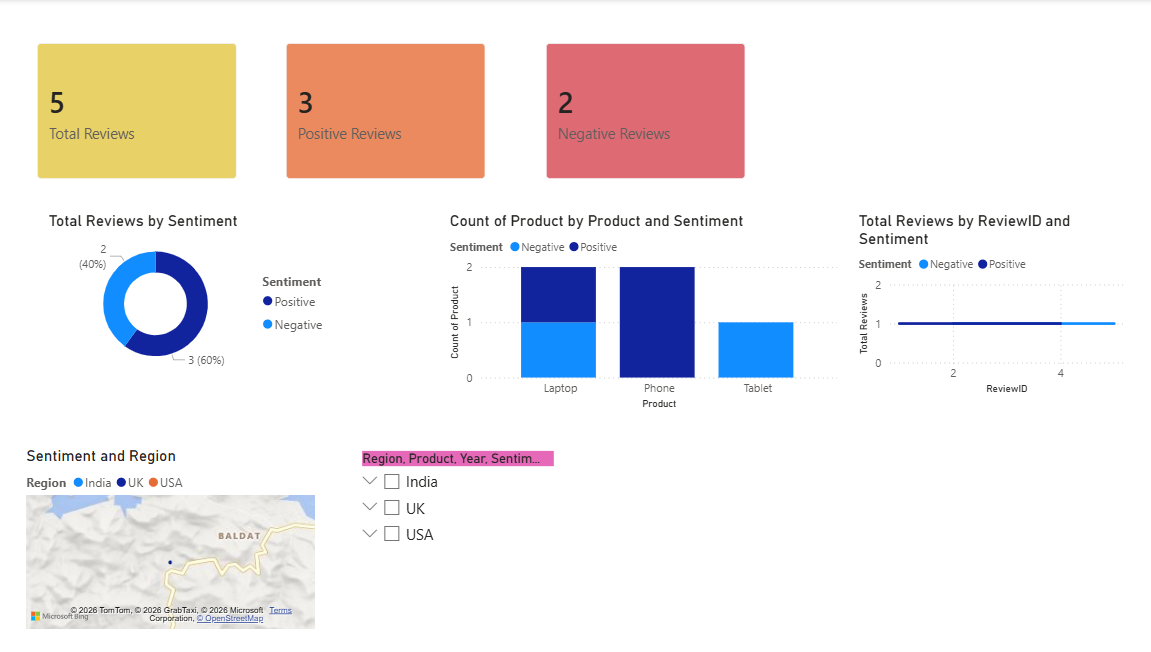

Layout of this report page (visuals, bound fields, positions):
{"tool":"powerbi","page":{"name":"Customer sentimentdashboard ","canvas":[1280,720],"ordinal":0},"visuals":[{"type":"cardVisual","fields":{"Data":["sentimenttable.Total Reviews"]},"box":[26.1,31.6,253.9,183.9],"z":0},{"type":"cardVisual","fields":{"Data":["sentimenttable.Positive Reviews"]},"box":[299.1,31.6,253.9,183.9],"z":1},{"type":"cardVisual","fields":{"Data":["sentimenttable.Negative Reviews"]},"box":[584.6,31.6,253.9,183.9],"z":2},{"type":"donutChart","fields":{"Category":["sentimenttable.Sentiment"],"Y":["sentimenttable.Total Reviews"]},"box":[50.8,233.3,326.6,183.9],"z":3},{"type":"columnChart","fields":{"Series":["sentimenttable.Sentiment"],"Category":["sentimenttable.Product"],"Y":["CountNonNull(sentimenttable.Product)"]},"box":[491.3,233.3,435,222.3],"z":4},{"type":"map","fields":{"Series":["sentimenttable.Region"],"Category":["sentimenttable.Sentiment"]},"box":[26.1,491.3,326.6,205.8],"z":6},{"type":"lineChart","fields":{"Series":["sentimenttable.Sentiment"],"Category":["sentimenttable.ReviewID"],"Y":["sentimenttable.Total Reviews"]},"box":[940,233.3,300.5,205.8],"z":7},{"type":"slicer","fields":{"Values":["sentimenttable.Region","sentimenttable.Product","sentimenttable.Year","sentimenttable.Sentiment"]},"box":[387,491.3,236,205.8],"z":8}]}

Visuals, with their boxes in screenshot pixels (x1, y1, x2, y2), scaled from the page's 1280x720 canvas onto the 1151x652 screenshot:
cardVisual - sentimenttable.Total Reviews: x1=23, y1=29, x2=252, y2=195
cardVisual - sentimenttable.Positive Reviews: x1=269, y1=29, x2=497, y2=195
cardVisual - sentimenttable.Negative Reviews: x1=526, y1=29, x2=754, y2=195
donutChart - sentimenttable.Sentiment x sentimenttable.Total Reviews: x1=46, y1=211, x2=339, y2=378
columnChart - sentimenttable.Sentiment x sentimenttable.Product: x1=442, y1=211, x2=833, y2=413
map - sentimenttable.Region x sentimenttable.Sentiment: x1=23, y1=445, x2=317, y2=631
lineChart - sentimenttable.Sentiment x sentimenttable.ReviewID: x1=845, y1=211, x2=1115, y2=398
slicer - sentimenttable.Region x sentimenttable.Product: x1=348, y1=445, x2=560, y2=631
